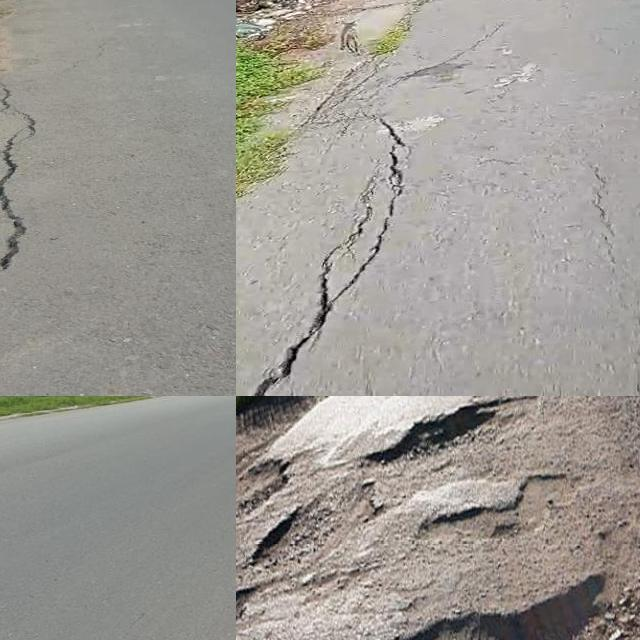Lubang: (368, 396, 534, 491), (412, 581, 640, 640)
Memanjang: (239, 102, 420, 396), (0, 74, 48, 303)
